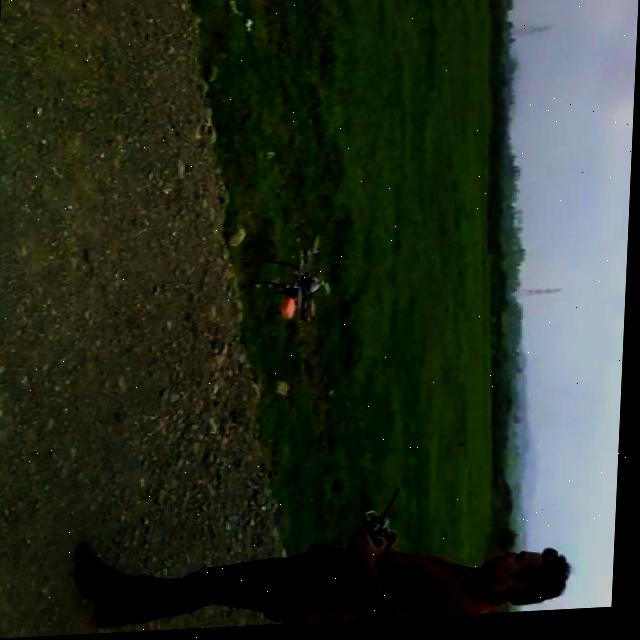drone: (257, 238, 338, 331)
